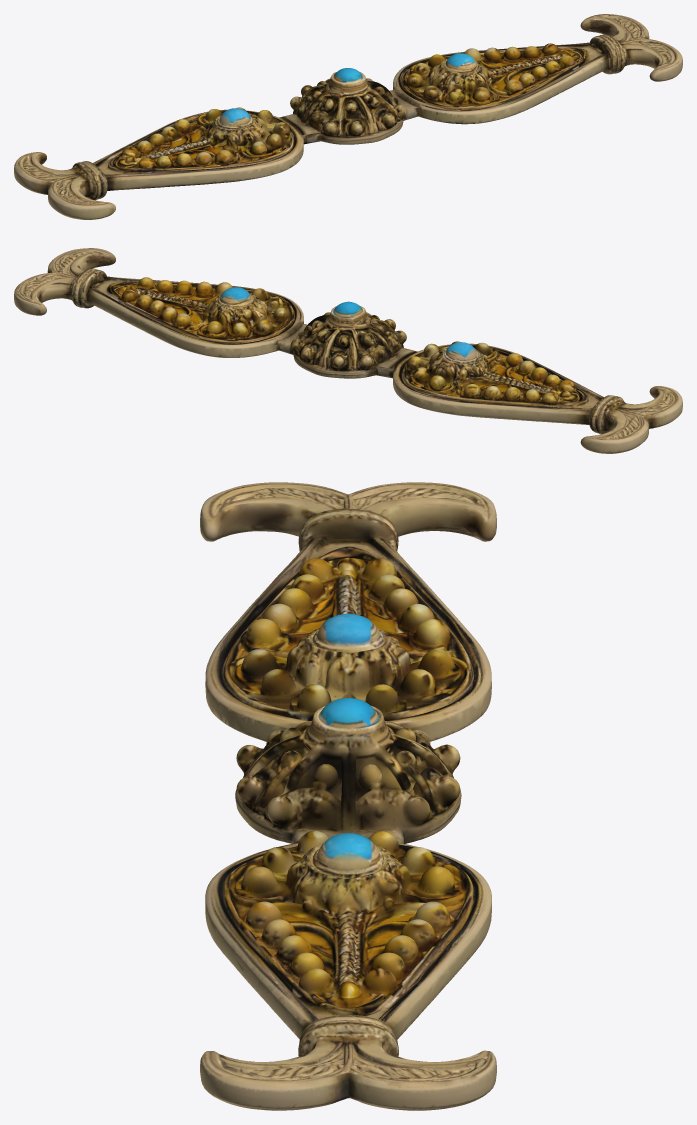
Rendered from 041-prazdnichnaya-zastezhka-zhenskogo-platya.glb.
The picture shows the model from 3 angles, top to bottom: view 1: azimuth 30°, elevation 25°; view 2: azimuth 150°, elevation 25°; view 3: azimuth 270°, elevation 25°; orthographic projection. The views are drawn at different scales.
Visible parts, largest first — view 1: node_0; view 2: node_0; view 3: node_0.
Part boxes in pixels (x1,y1,x2,y2): node_0: [14, 14, 682, 219]; node_0: [14, 248, 682, 453]; node_0: [200, 482, 496, 1110].
Size of the model in its own units: 1.19 by 0.1186 by 0.2467.
Materials: 1 (1 with a texture image).
